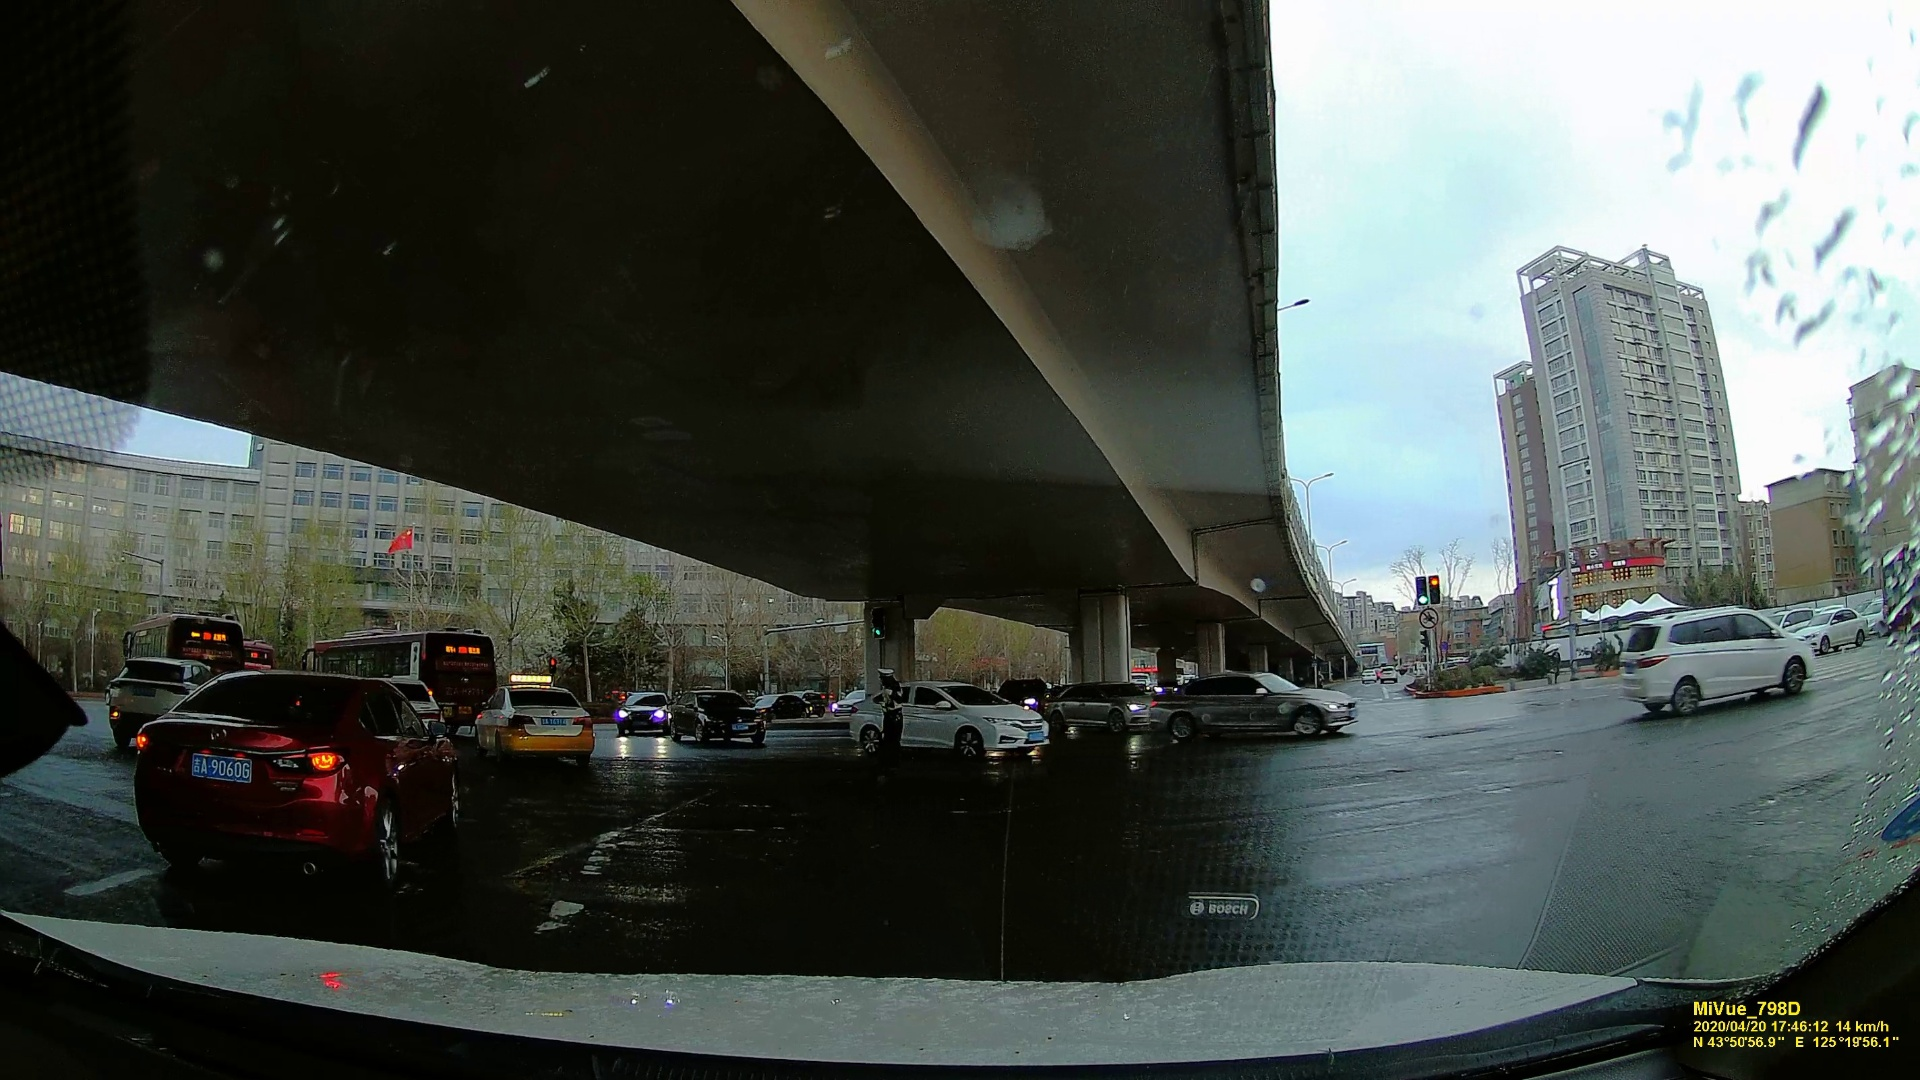bus: (304, 632, 498, 704), (118, 616, 244, 668)
person: (875, 663, 906, 782)
traffic_sign: (1416, 609, 1439, 629), (1413, 576, 1428, 605), (1428, 575, 1441, 604)
vehicle: (134, 668, 461, 877), (1620, 605, 1817, 714), (846, 675, 1049, 762), (1150, 667, 1358, 745), (463, 685, 599, 767), (106, 660, 218, 748), (669, 686, 768, 747), (1050, 681, 1159, 733), (613, 691, 669, 736), (1378, 666, 1398, 683)
